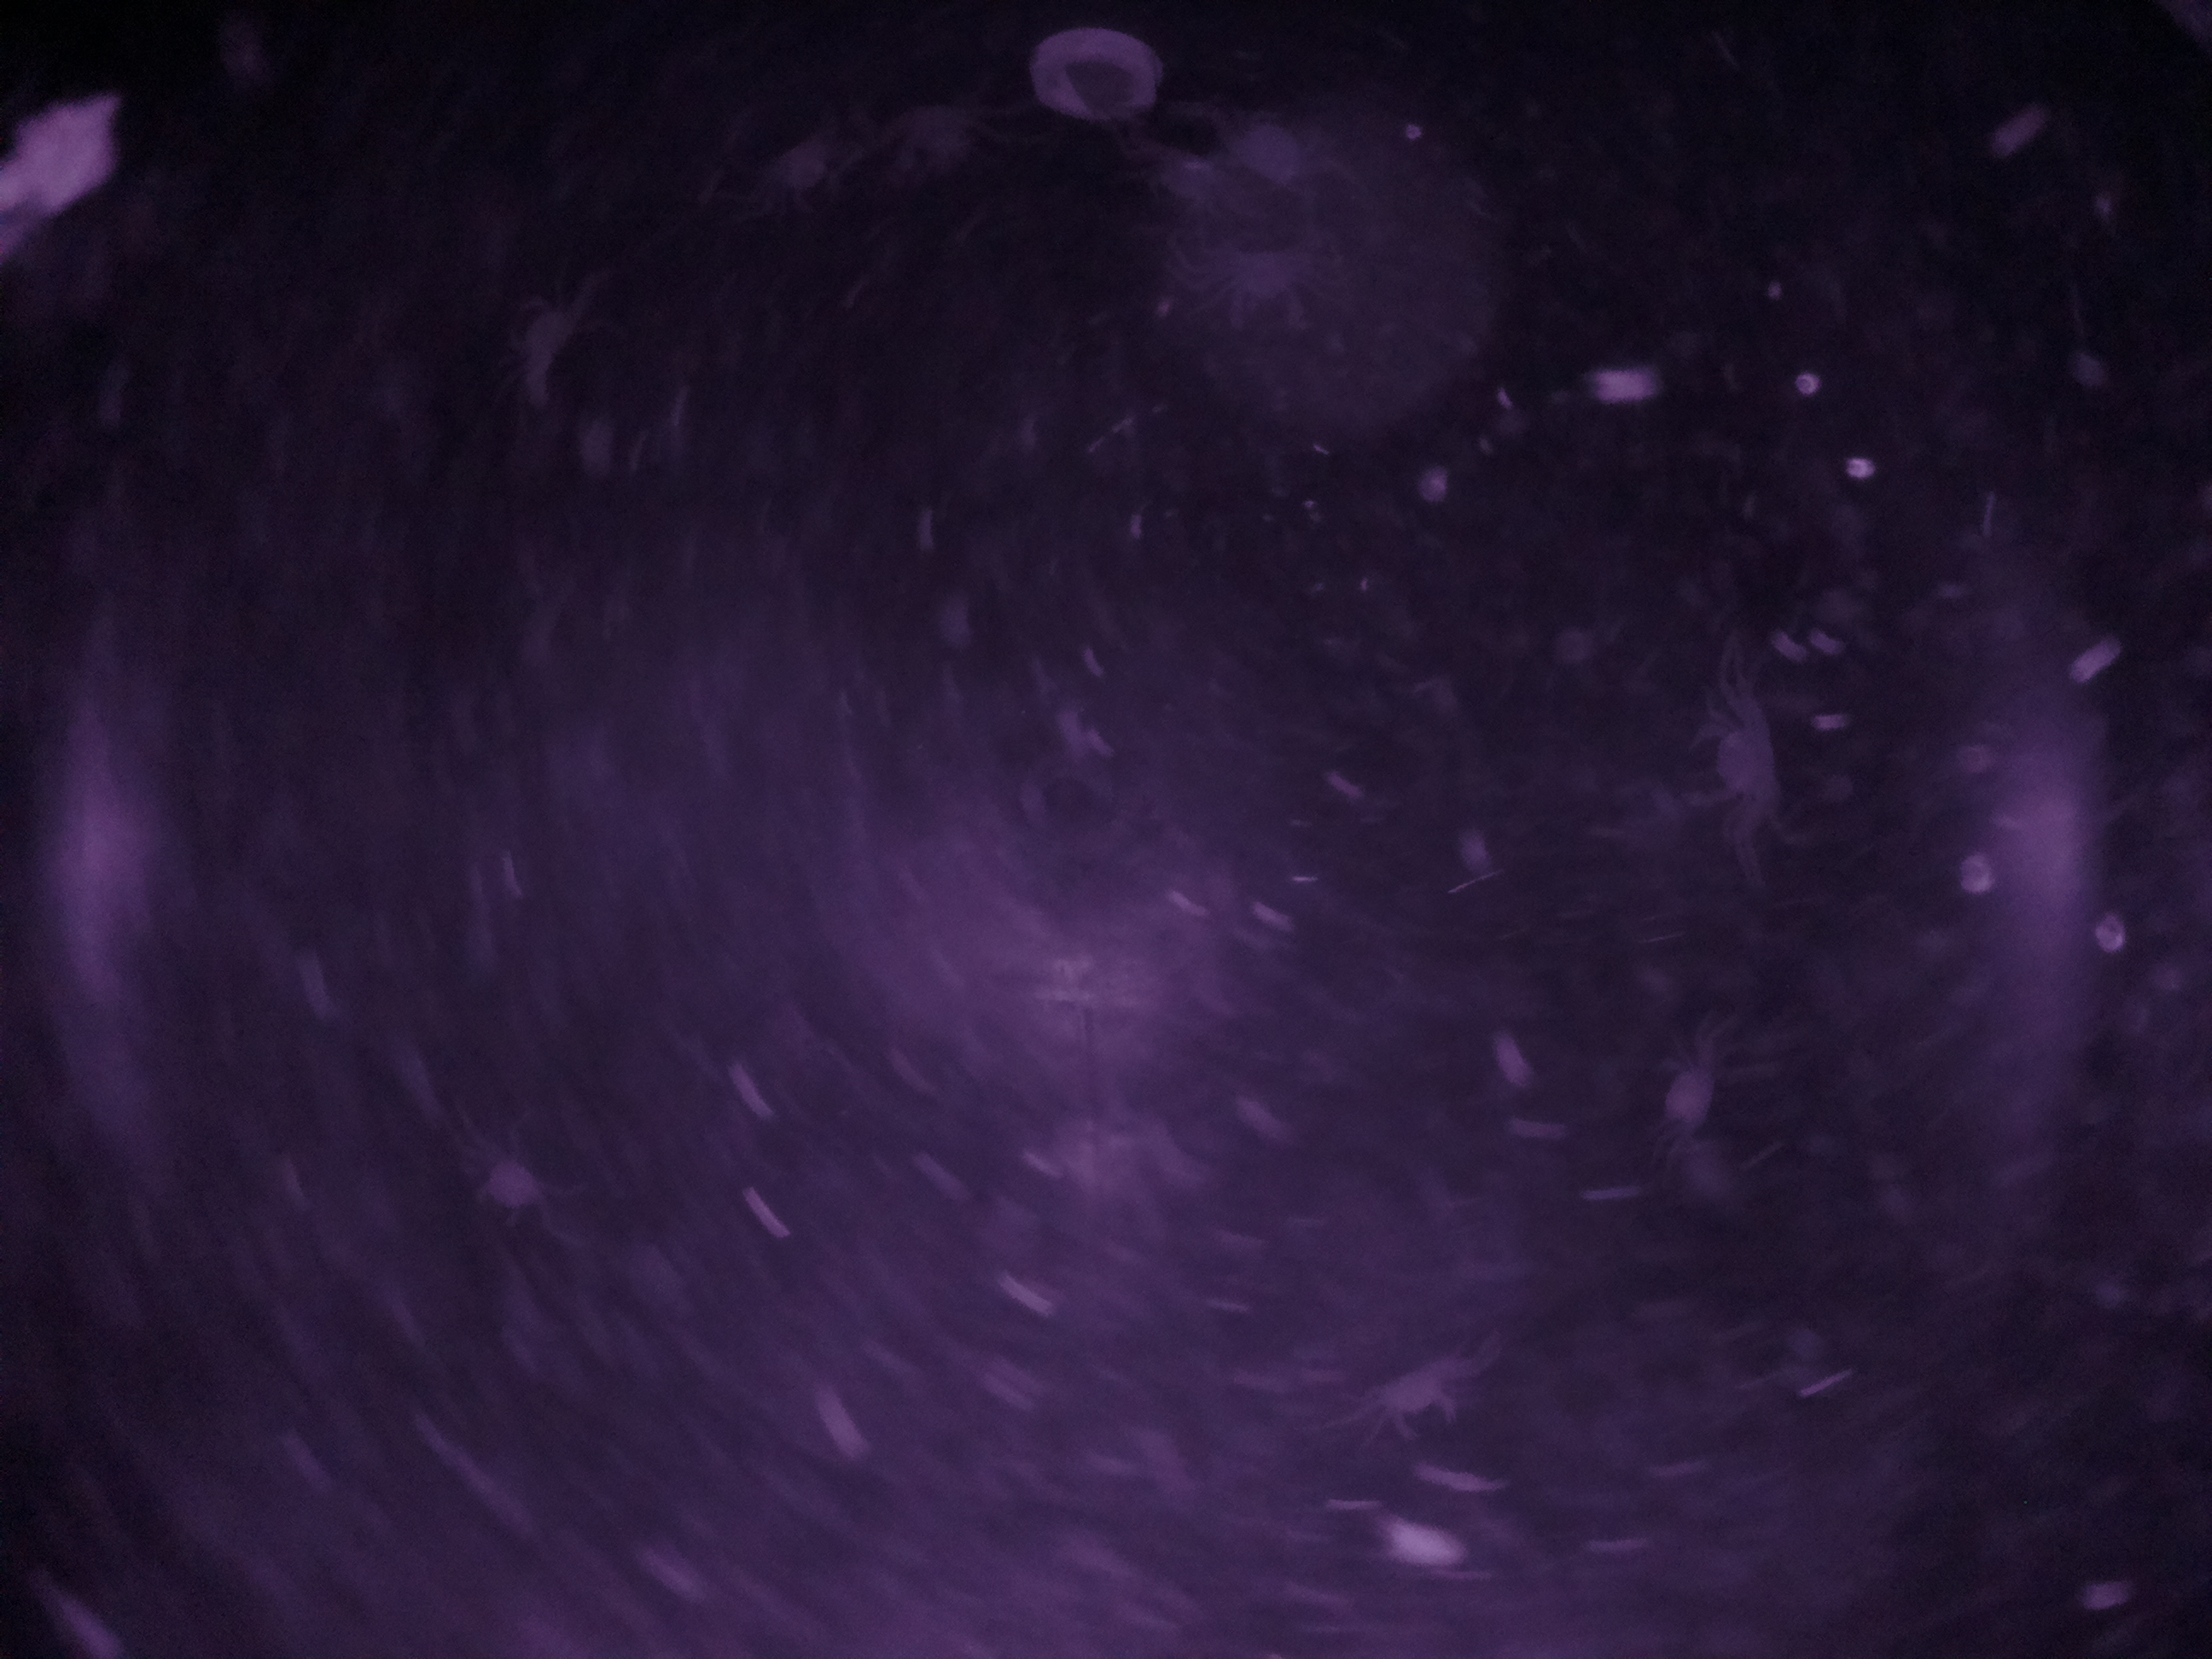Crab: (1669, 687, 1803, 831)
